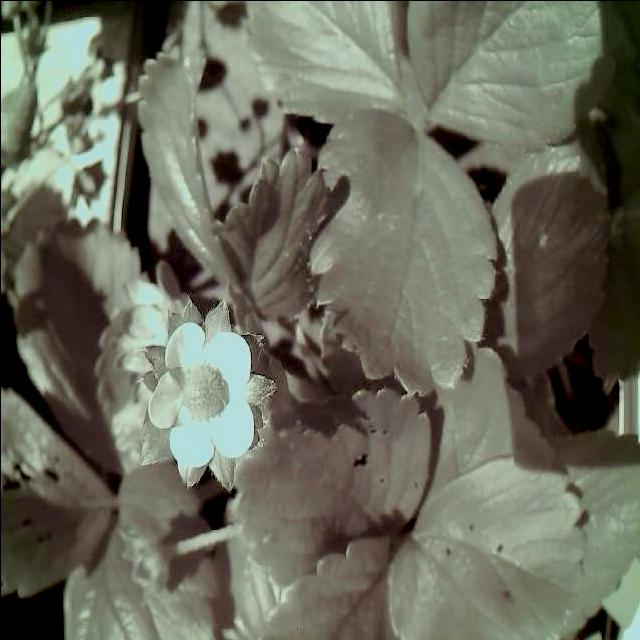flower: (146, 319, 262, 477)
